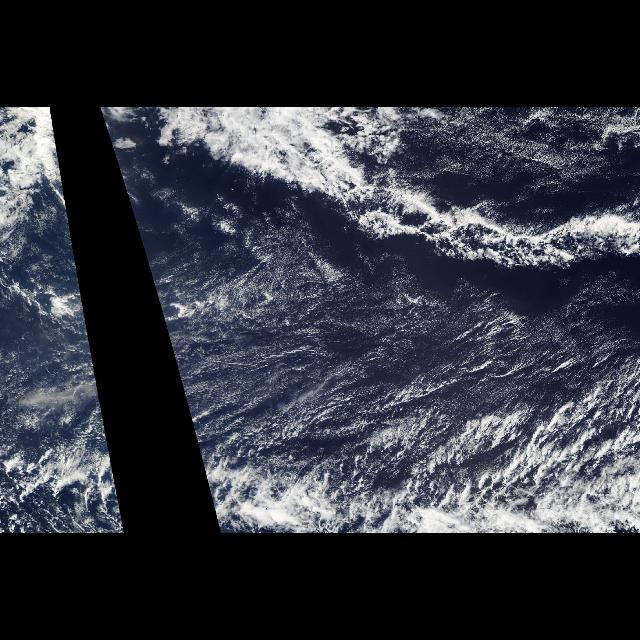Fish: (158, 107, 640, 295), (193, 434, 639, 532), (20, 434, 126, 532)
Gravel: (332, 168, 626, 276), (242, 370, 640, 438)
Sugar: (157, 280, 639, 458), (361, 109, 631, 201)
